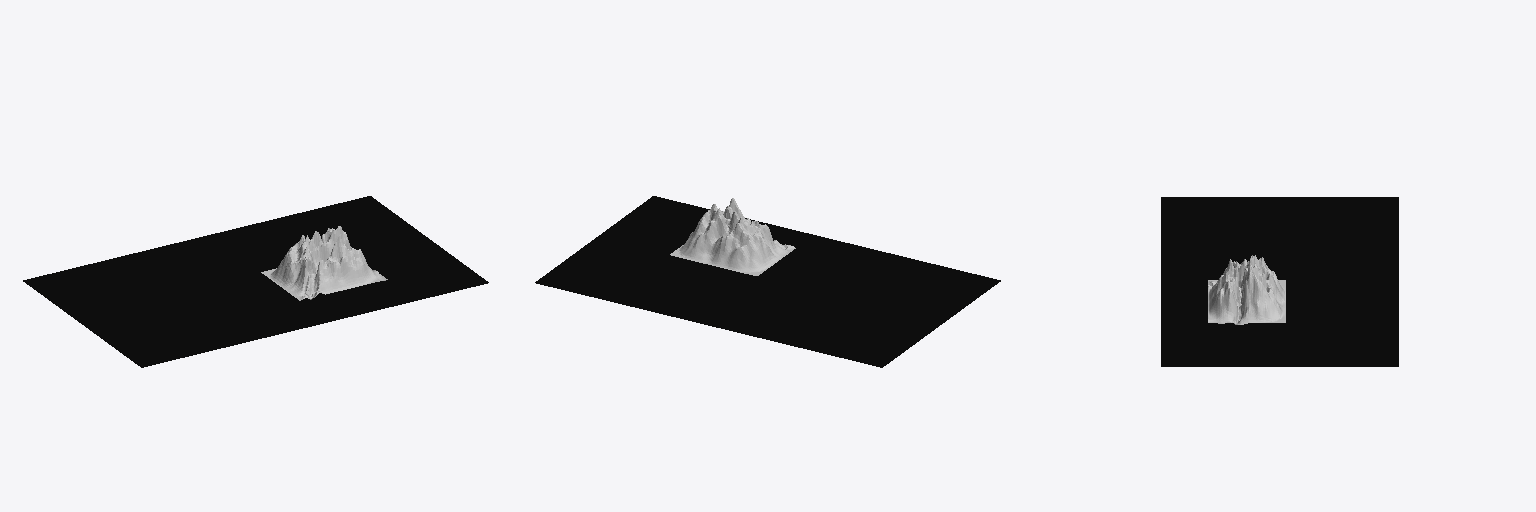
Rendered from mount.blend1nou.obj.
The picture shows the model from 3 angles: view 1: azimuth 30°, elevation 25°; view 2: azimuth 150°, elevation 25°; view 3: azimuth 270°, elevation 25°; orthographic projection.
Visible parts, largest first — view 1: Plane, Landscape; view 2: Plane, Landscape; view 3: Plane, Landscape.
Boxes of the visible parts, <box> form: Plane: <box>23,196,488,367</box>; Landscape: <box>261,226,387,300</box>; Plane: <box>535,196,1000,367</box>; Landscape: <box>670,198,795,275</box>; Plane: <box>1161,197,1398,366</box>; Landscape: <box>1208,255,1285,324</box>.
Size of the model in its own units: 0.8822 by 0.1251 by 0.5236.